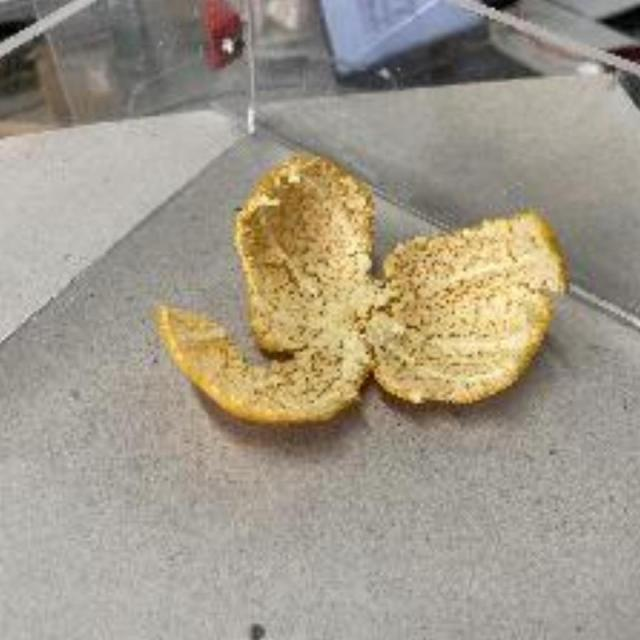orange-peel: (152, 148, 572, 430)
